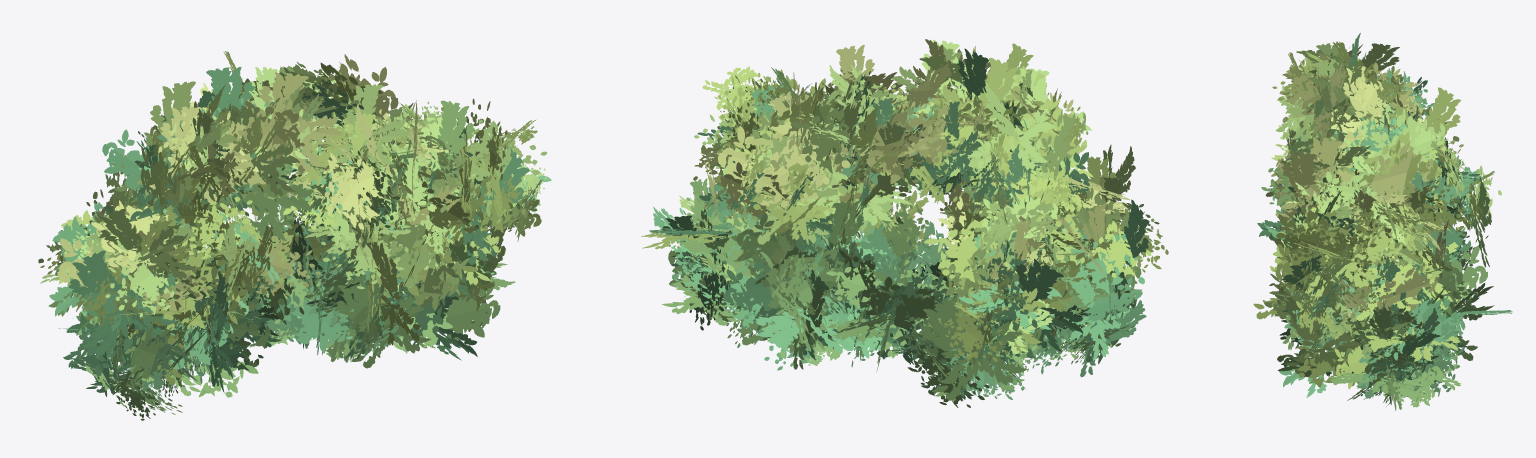
File: Hedge_01_Soft_Rectangle.glb
The picture shows the model from 3 angles, left to right: view 1: azimuth 30°, elevation 25°; view 2: azimuth 150°, elevation 25°; view 3: azimuth 270°, elevation 25°; orthographic projection. The views are drawn at different scales.
Visible parts, largest first — view 1: Hedge_01_Soft_Rectangle; view 2: Hedge_01_Soft_Rectangle; view 3: Hedge_01_Soft_Rectangle.
Part boxes in pixels (left/top/right/bottom): Hedge_01_Soft_Rectangle: left=38, top=51, right=551, bottom=420; Hedge_01_Soft_Rectangle: left=641, top=39, right=1168, bottom=407; Hedge_01_Soft_Rectangle: left=1253, top=33, right=1512, bottom=410.
Size of the model in its own units: 2.79 by 1.77 by 1.57.
6 materials, 6 textured.
